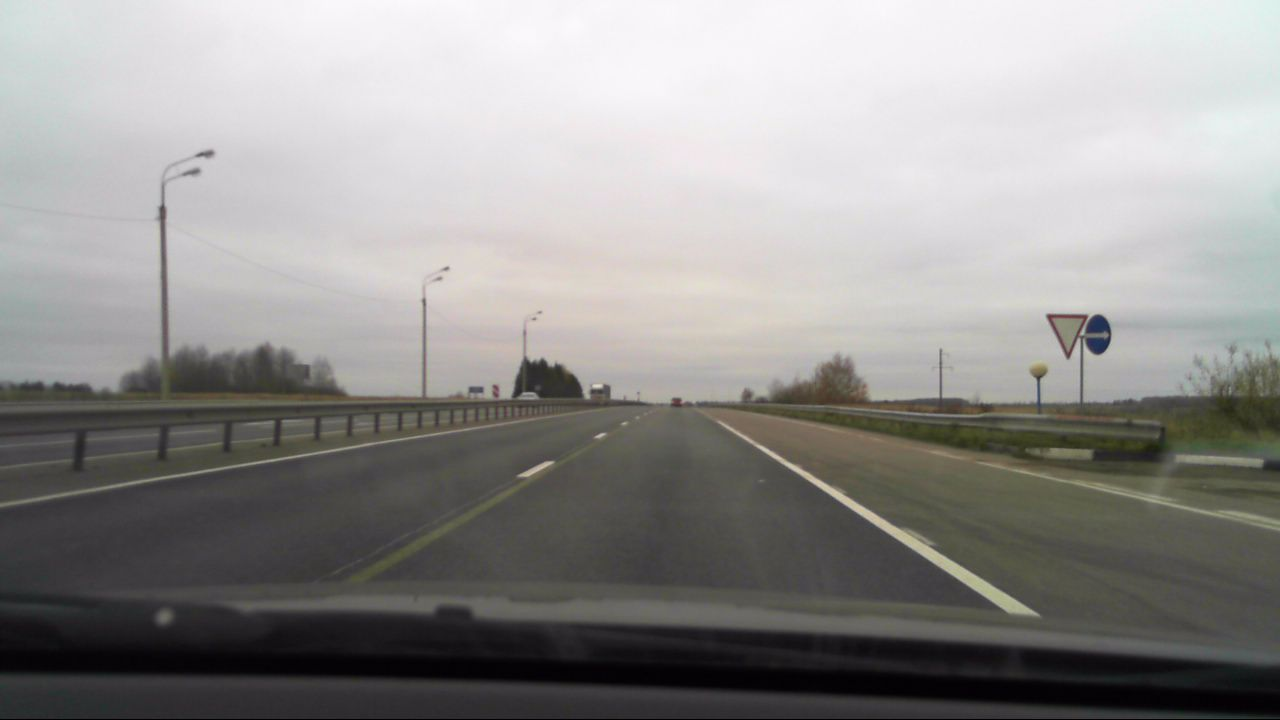Turn Right: (1085, 314, 1112, 355)
